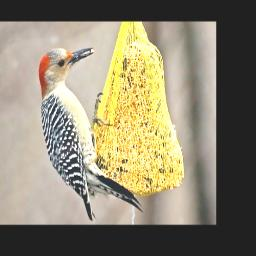Woodpecker: (23, 40, 148, 219)
